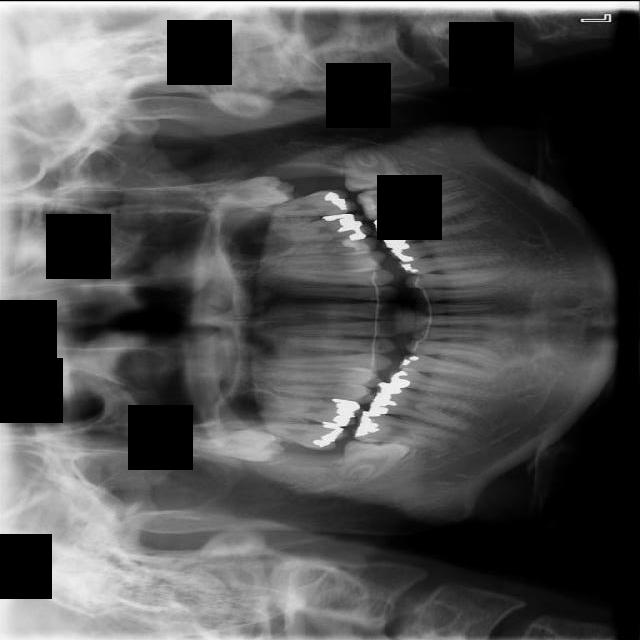3M ESPE Implant: (154, 423, 284, 462)
52: (372, 208, 420, 251), (367, 379, 416, 421), (311, 211, 372, 244), (351, 405, 396, 449), (297, 419, 349, 453), (356, 185, 401, 222), (314, 395, 364, 428), (303, 187, 356, 216), (332, 234, 379, 256), (388, 363, 426, 390), (386, 240, 425, 263), (398, 350, 433, 375), (398, 255, 434, 276)
73: (540, 82, 552, 90)
BioHorizons Implant: (227, 185, 358, 223)
BioLife Implant: (150, 172, 297, 220)
Biomet 3i Implant: (341, 142, 410, 193)
Blue Sky Bio Implant: (356, 176, 470, 222)
Caries: (222, 414, 348, 451)
Implant: (351, 408, 458, 457)
Keystone Dental Implant: (335, 436, 411, 485)
